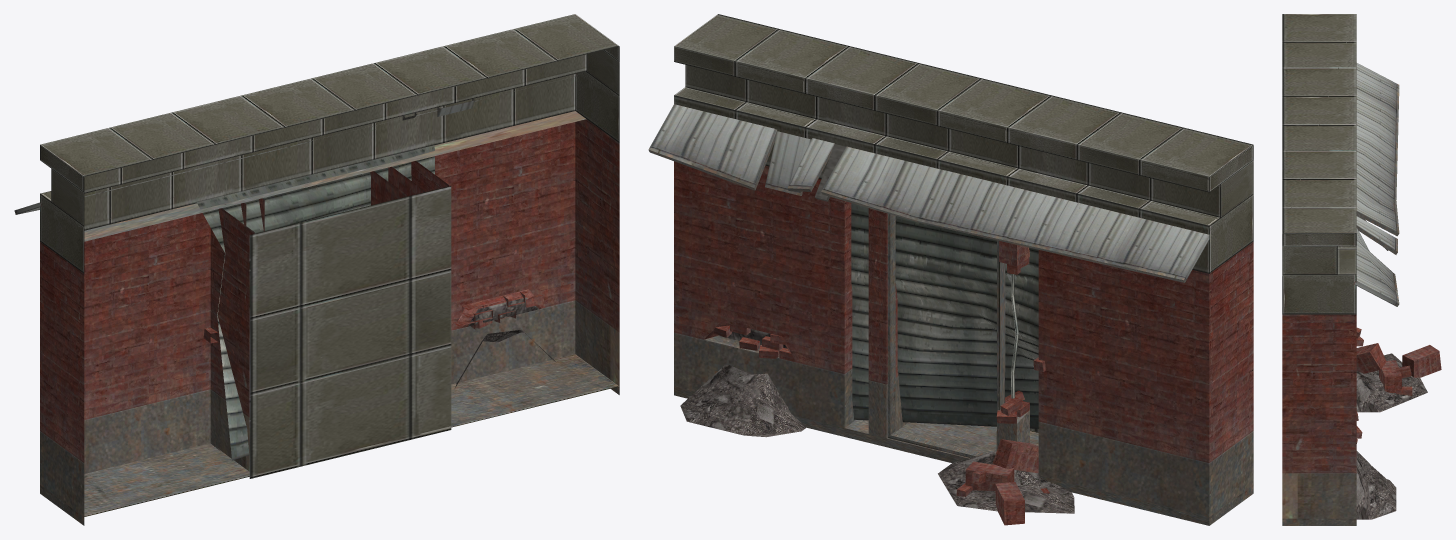
The model's file is Store_front_28.fbx.
3 views of the same model, side by side, from view 1: azimuth 30°, elevation 25°; view 2: azimuth 150°, elevation 25°; view 3: azimuth 270°, elevation 25° (orthographic). The views are drawn at different scales.
Visible parts, largest first — view 1: Store_front_28; view 2: Store_front_28; view 3: Store_front_28.
Part boxes in pixels (left/top/right/bottom): Store_front_28: left=14, top=14, right=619, bottom=525; Store_front_28: left=648, top=14, right=1253, bottom=525; Store_front_28: left=1282, top=14, right=1441, bottom=525.
Size of the model in its own units: 700 by 436 by 215.
